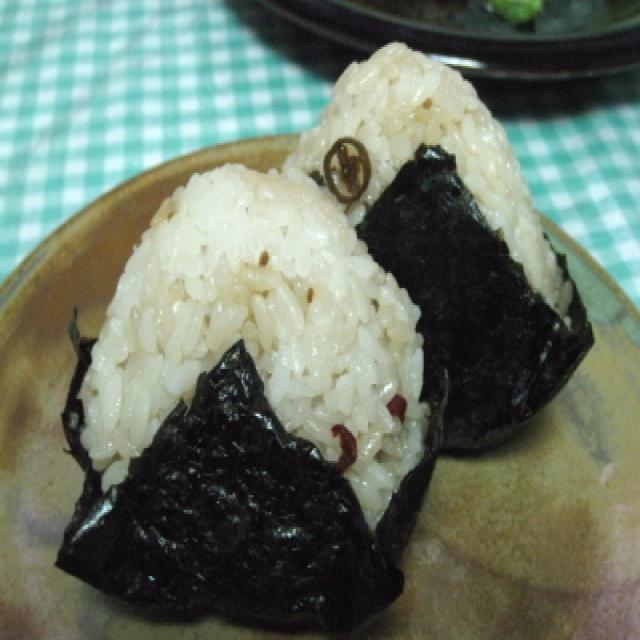米饭主食: (0, 38, 640, 636)
